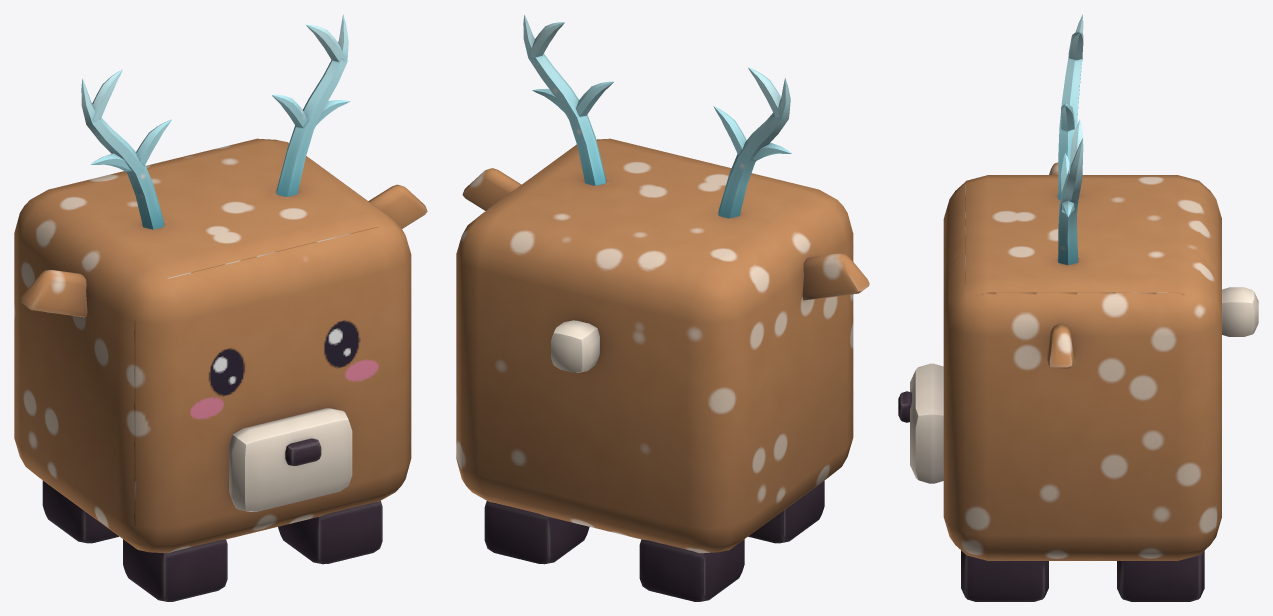
File: MysticDeer.fbx
3 views of the same model, side by side, from view 1: azimuth 30°, elevation 25°; view 2: azimuth 150°, elevation 25°; view 3: azimuth 270°, elevation 25° (orthographic). The views are drawn at different scales.
Visible parts, largest first — view 1: MysticDeer; view 2: MysticDeer; view 3: MysticDeer.
Part boxes in pixels (x1=…): MysticDeer: x1=14, y1=14, x2=427, y2=601; MysticDeer: x1=456, y1=14, x2=869, y2=601; MysticDeer: x1=898, y1=14, x2=1258, y2=601.
Bounding box in the file's own units: 306 × 360 × 246.
Materials: 1 (1 with a texture image).
